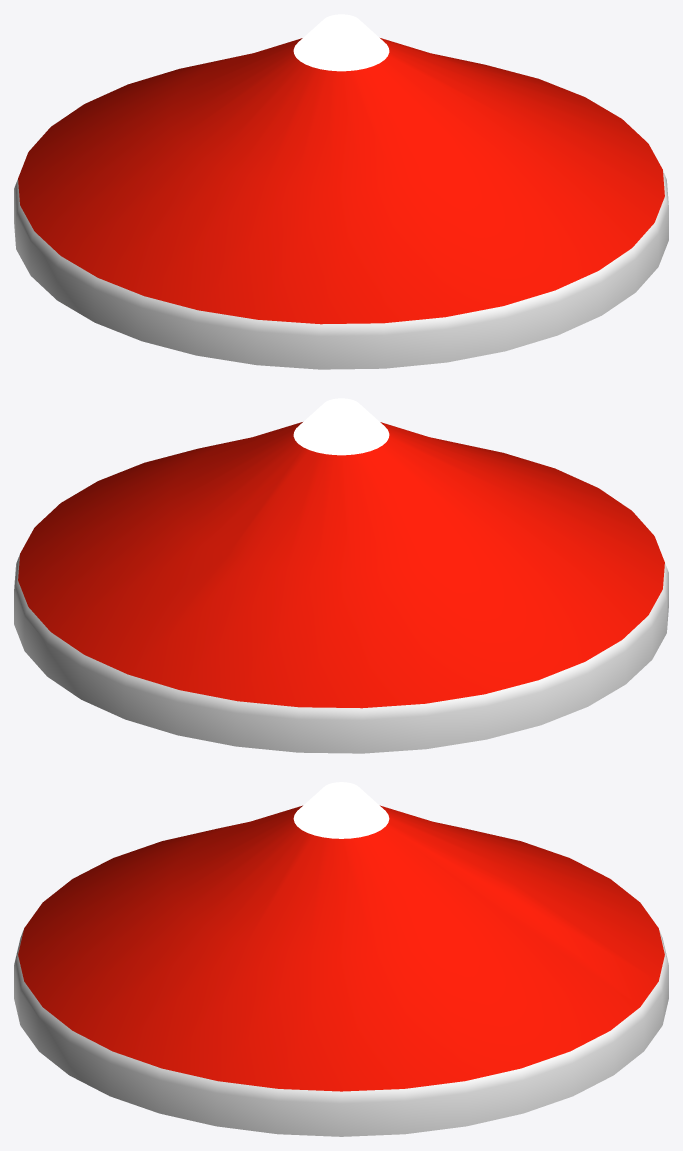
The model's file is CymbalNote.glb.
The picture shows the model from 3 angles, top to bottom: view 1: azimuth 30°, elevation 25°; view 2: azimuth 150°, elevation 25°; view 3: azimuth 270°, elevation 25°; orthographic projection.
Parts seen in each view (by area): view 1: CymbalNote; view 2: CymbalNote; view 3: CymbalNote.
Boxes of the visible parts, bbox=[...] form: CymbalNote: bbox=[14, 14, 668, 369]; CymbalNote: bbox=[14, 398, 668, 753]; CymbalNote: bbox=[14, 782, 668, 1136].
Size of the model in its own units: 0.9021 by 0.3201 by 0.9021.
